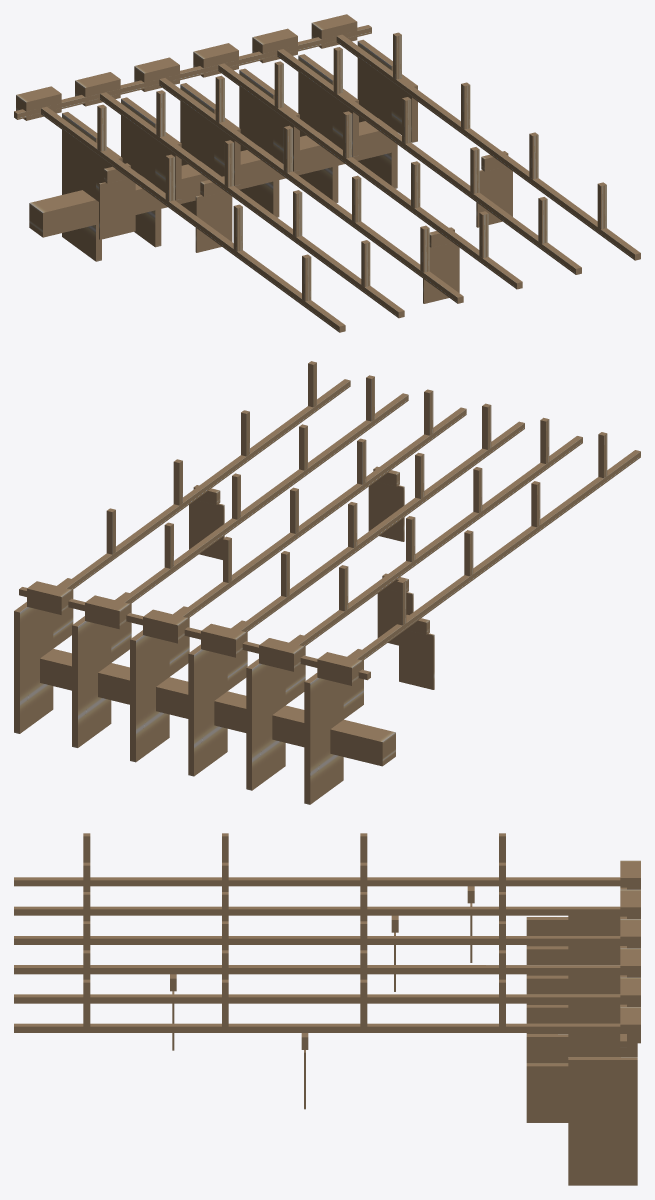
Rendered from SM_Env_Parts_Shoot_02.fbx.
3 views of the same model, one above another, from view 1: azimuth 30°, elevation 25°; view 2: azimuth 150°, elevation 25°; view 3: azimuth 270°, elevation 25° (orthographic). The views are drawn at different scales.
Parts seen in each view (by area): view 1: SM_Env_Parts_Shoot_02; view 2: SM_Env_Parts_Shoot_02; view 3: SM_Env_Parts_Shoot_02.
Boxes of the visible parts, <box> form: SM_Env_Parts_Shoot_02: <box>14,14,640,332</box>; SM_Env_Parts_Shoot_02: <box>14,361,640,804</box>; SM_Env_Parts_Shoot_02: <box>14,833,640,1185</box>.
Size of the model in its own units: 600 by 905 by 300.
1 material, 1 textured.
